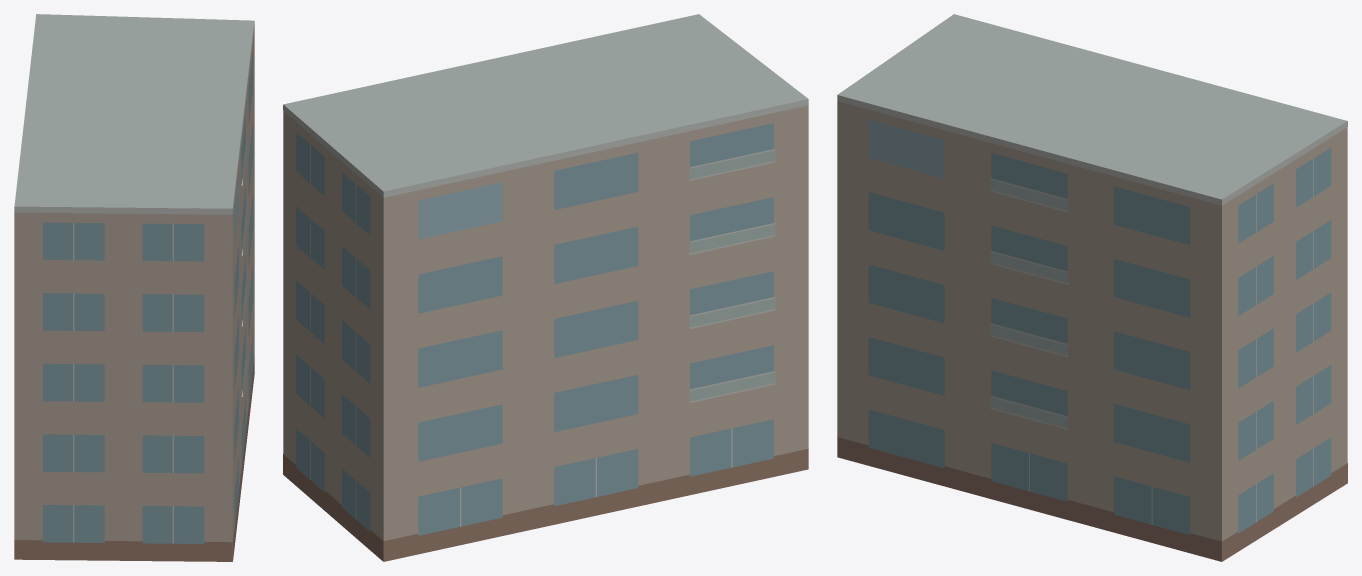
Rendered from survey-upis-32881264.glb.
3 views of the same model, side by side, from view 1: azimuth 30°, elevation 25°; view 2: azimuth 150°, elevation 25°; view 3: azimuth 270°, elevation 25° (orthographic). The views are drawn at different scales.
Parts seen in each view (by area): view 1: survey-upis-32881264.tmp; view 2: survey-upis-32881264.tmp; view 3: survey-upis-32881264.tmp.
Boxes of the visible parts, x1,y1,x2,y2 form: survey-upis-32881264.tmp: [14, 14, 254, 561]; survey-upis-32881264.tmp: [283, 14, 808, 561]; survey-upis-32881264.tmp: [837, 14, 1347, 561].
Size of the model in its own units: 15.72 by 14.3 by 18.27.
